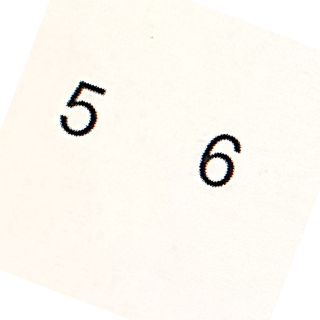five: (54, 76, 109, 140)
six: (195, 131, 244, 191)
